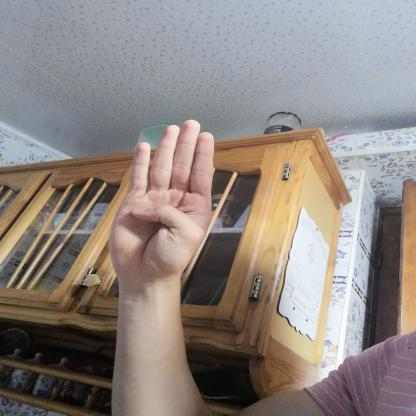KAAF: (99, 111, 224, 288)
